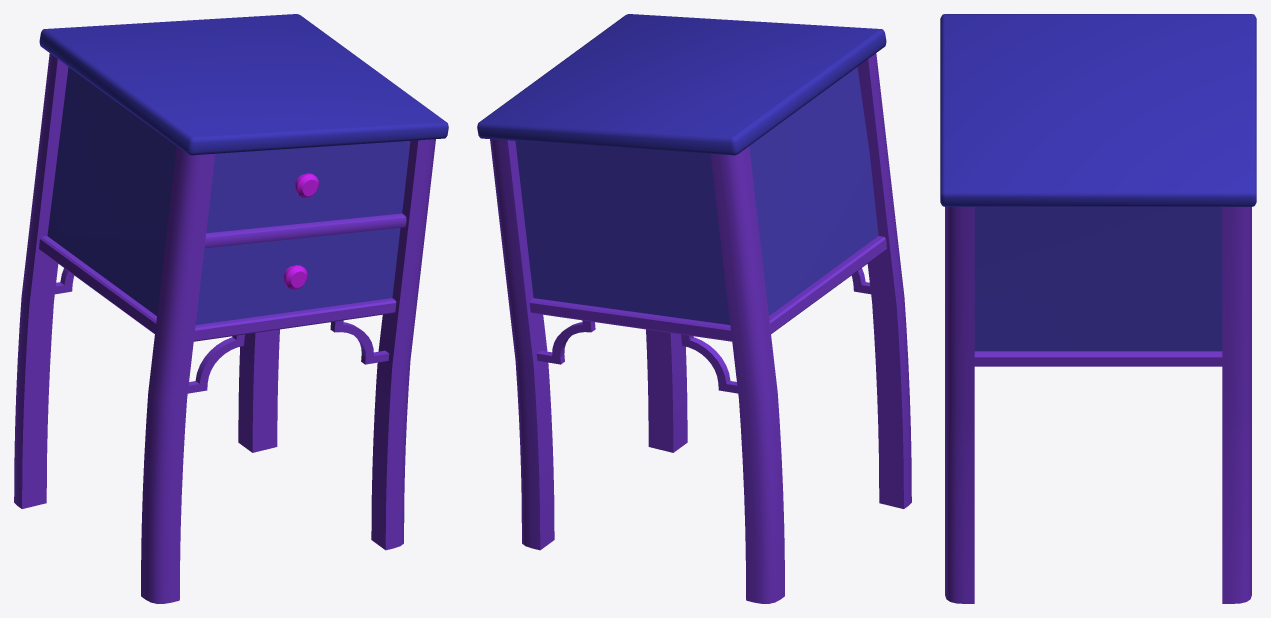
File: nightstand_v3.FBX
3 views of the same model, side by side, from view 1: azimuth 30°, elevation 25°; view 2: azimuth 150°, elevation 25°; view 3: azimuth 270°, elevation 25° (orthographic). The views are drawn at different scales.
Parts seen in each view (by area): view 1: nightstand_01; view 2: nightstand_01; view 3: nightstand_01.
Part boxes in pixels (left/top/right/bottom): nightstand_01: left=14, top=14, right=448, bottom=603; nightstand_01: left=477, top=14, right=911, bottom=603; nightstand_01: left=940, top=14, right=1256, bottom=603.
Size of the model in its own units: 17.81 by 26.72 by 16.
